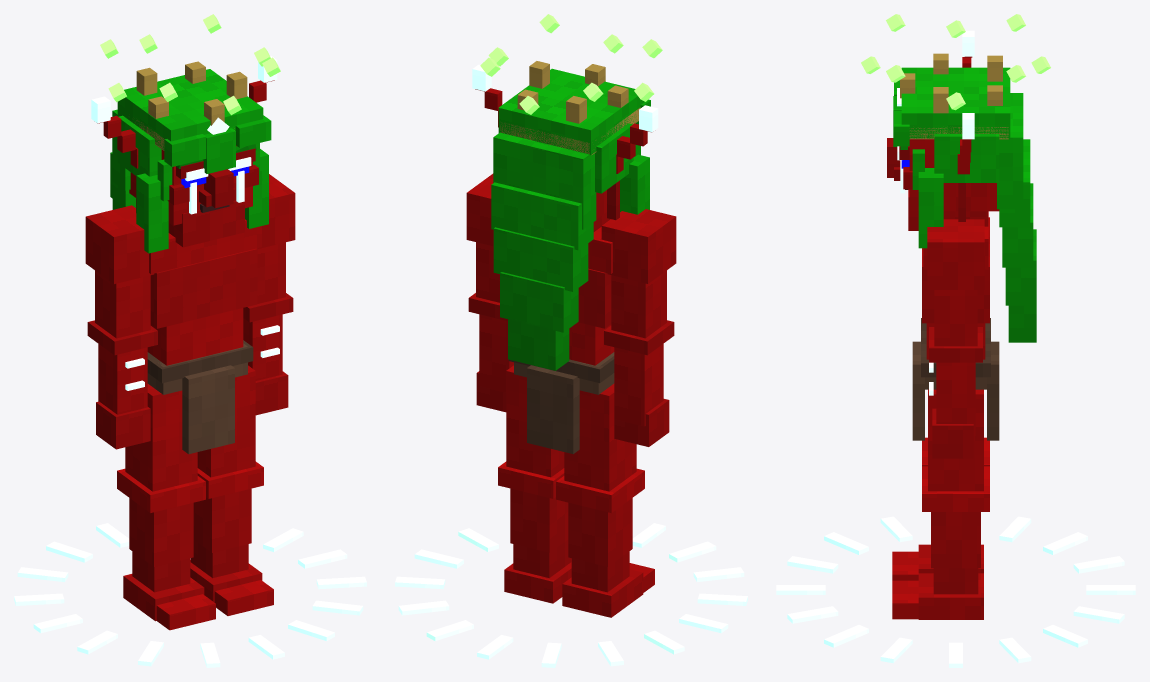
File: elf_s1_evo3.glb
The picture shows the model from 3 angles, left to right: view 1: azimuth 30°, elevation 25°; view 2: azimuth 150°, elevation 25°; view 3: azimuth 270°, elevation 25°; orthographic projection.
Visible parts, largest first — view 1: Head, Torso, LegR, ArmR, LegL, ArmL, Root; view 2: Head, LegR, ArmR, LegL, Torso, Root, ArmL; view 3: Head, LegL, ArmL, Root, Torso, LegR.
Boxes of the visible parts, <box> form: Head: <box>91,14,280,253</box>; Torso: <box>147,219,261,454</box>; LegR: <box>117,384,215,630</box>; ArmR: <box>85,205,157,449</box>; LegL: <box>190,365,273,615</box>; ArmL: <box>243,174,295,415</box>; Root: <box>14,523,366,667</box>; Head: <box>472,14,662,370</box>; LegR: <box>556,383,654,617</box>; ArmR: <box>601,209,676,446</box>; LegL: <box>498,365,571,603</box>; Torso: <box>508,227,614,454</box>; Root: <box>395,523,747,667</box>; ArmL: <box>466,173,513,412</box>; Head: <box>861,14,1050,342</box>; LegL: <box>892,389,989,619</box>; ArmL: <box>927,219,984,458</box>; Root: <box>776,516,1135,667</box>; Torso: <box>912,211,999,440</box>; LegR: <box>892,437,989,580</box>.
Bounding box in the file's own units: 1.18 × 2.01 × 1.18.
25 materials, 25 textured.
